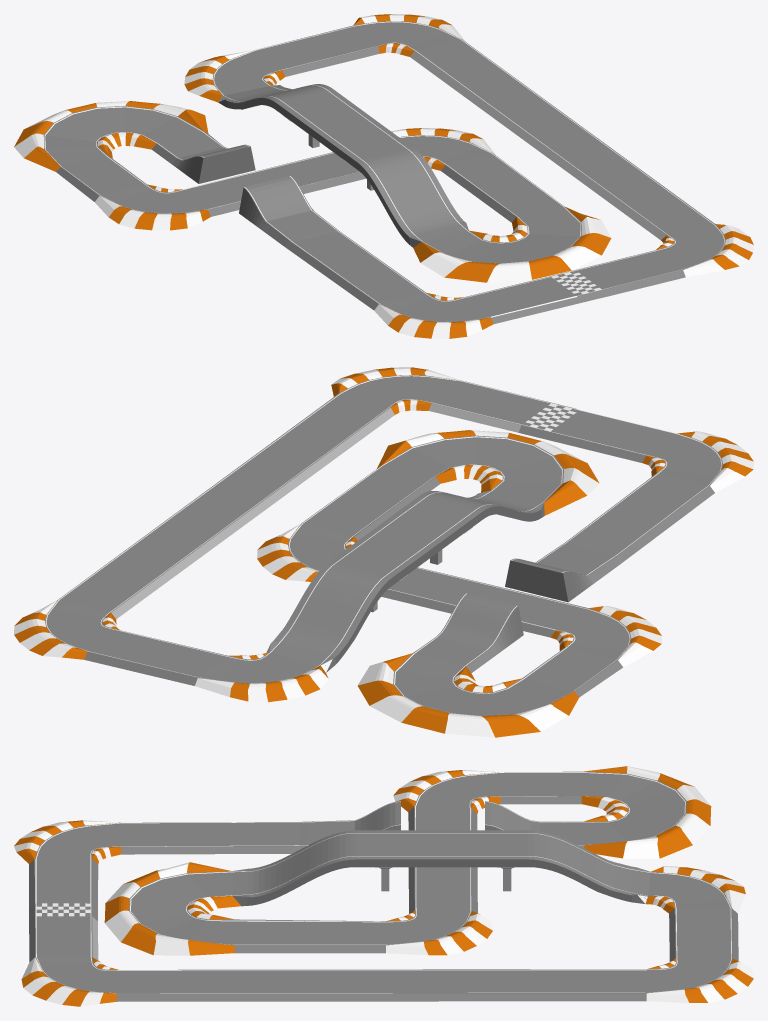
File: track.fbx
3 views of the same model, one above another, from view 1: azimuth 30°, elevation 25°; view 2: azimuth 150°, elevation 25°; view 3: azimuth 270°, elevation 25° (orthographic). The views are drawn at different scales.
Visible parts, largest first — view 1: track; view 2: track; view 3: track.
Part boxes in pixels (x1=…): track: x1=14, y1=14, x2=753, y2=338; track: x1=14, y1=367, x2=753, y2=737; track: x1=14, y1=766, x2=753, y2=1006.
Bounding box in the file's own units: 861 × 79.36 × 1129.
